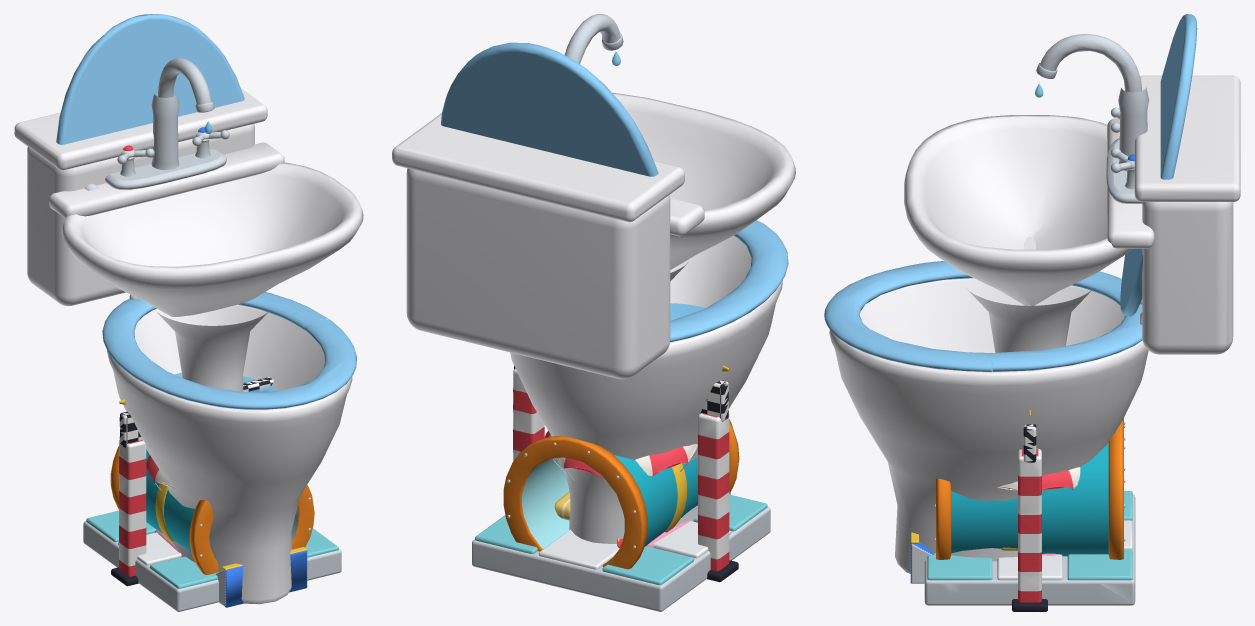
File: soap-props2.glb
3 renders of one model, left to right at view 1: azimuth 30°, elevation 25°; view 2: azimuth 150°, elevation 25°; view 3: azimuth 270°, elevation 25°, orthographic. The views are drawn at different scales.
Visible parts, largest first — view 1: Toilet_Bowl, Sink, Toilet_Tank, Platform, Sink_Faucet, Pipe, Arch_Pillars, Ramp_Body, Arch_Banner; view 2: Toilet_Tank, Toilet_Bowl, Sink, Platform, Pipe, Arch_Pillars, Sink_Faucet, Canopy, Arch_Banner; view 3: Toilet_Bowl, Sink, Toilet_Tank, Pipe, Platform, Sink_Faucet, Arch_Pillars, Ramp_Body, Canopy.
Part boxes in pixels (x1=…): Toilet_Bowl: x1=56, y1=14, x2=356, y2=604; Sink: x1=49, y1=142, x2=363, y2=391; Toilet_Tank: x1=14, y1=88, x2=267, y2=306; Platform: x1=83, y1=510, x2=341, y2=611; Sink_Faucet: x1=105, y1=58, x2=229, y2=189; Pipe: x1=110, y1=446, x2=314, y2=574; Arch_Pillars: x1=111, y1=399, x2=146, y2=586; Ramp_Body: x1=216, y1=547, x2=307, y2=607; Arch_Banner: x1=119, y1=377, x2=273, y2=447; Toilet_Tank: x1=392, y1=113, x2=684, y2=379; Toilet_Bowl: x1=441, y1=42, x2=788, y2=543; Sink: x1=612, y1=92, x2=795, y2=280; Platform: x1=472, y1=494, x2=770, y2=611; Pipe: x1=503, y1=419, x2=739, y2=569; Arch_Pillars: x1=513, y1=365, x2=738, y2=582; Sink_Faucet: x1=564, y1=14, x2=623, y2=65; Canopy: x1=544, y1=431, x2=697, y2=477; Arch_Banner: x1=514, y1=365, x2=728, y2=421; Toilet_Bowl: x1=824, y1=14, x2=1197, y2=573; Sink: x1=904, y1=115, x2=1154, y2=352; Toilet_Tank: x1=1134, y1=75, x2=1240, y2=354; Pipe: x1=934, y1=418, x2=1125, y2=559; Platform: x1=924, y1=490, x2=1135, y2=605; Sink_Faucet: x1=1035, y1=34, x2=1149, y2=203; Arch_Pillars: x1=1012, y1=410, x2=1047, y2=611; Ramp_Body: x1=910, y1=532, x2=934, y2=583; Canopy: x1=997, y1=467, x2=1080, y2=490.
Bounding box in the file's own units: 4.8 × 8.94 × 5.94.
